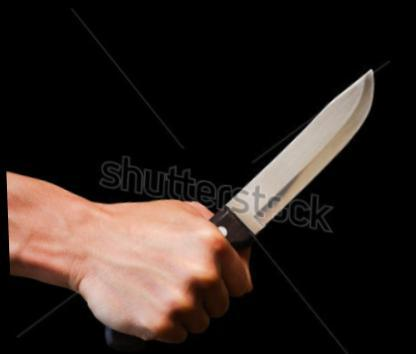knife: (141, 14, 388, 351)
